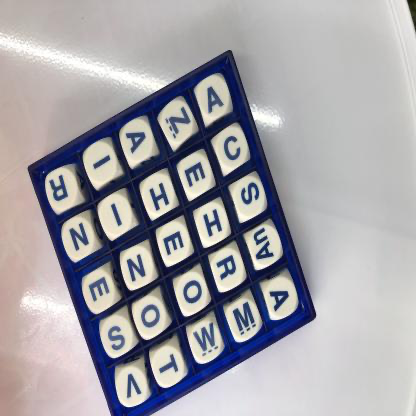a: (199, 75, 232, 117), (123, 120, 154, 161), (267, 277, 298, 318)
an: (249, 226, 281, 266)
c: (216, 127, 249, 169)
e: (84, 268, 116, 312), (159, 221, 191, 264), (180, 153, 212, 194)
h: (143, 174, 176, 215), (197, 202, 229, 243)
i: (101, 194, 133, 235), (87, 143, 118, 183)
m: (228, 299, 261, 340)
n: (122, 244, 154, 289), (64, 217, 95, 258)
o: (134, 295, 168, 339), (177, 272, 209, 312)
r: (47, 169, 78, 210), (214, 250, 244, 289), (155, 347, 185, 386)
s: (235, 176, 267, 216), (103, 315, 134, 356)
v: (116, 367, 148, 408)
w: (191, 322, 222, 362)
z: (163, 101, 194, 142)
